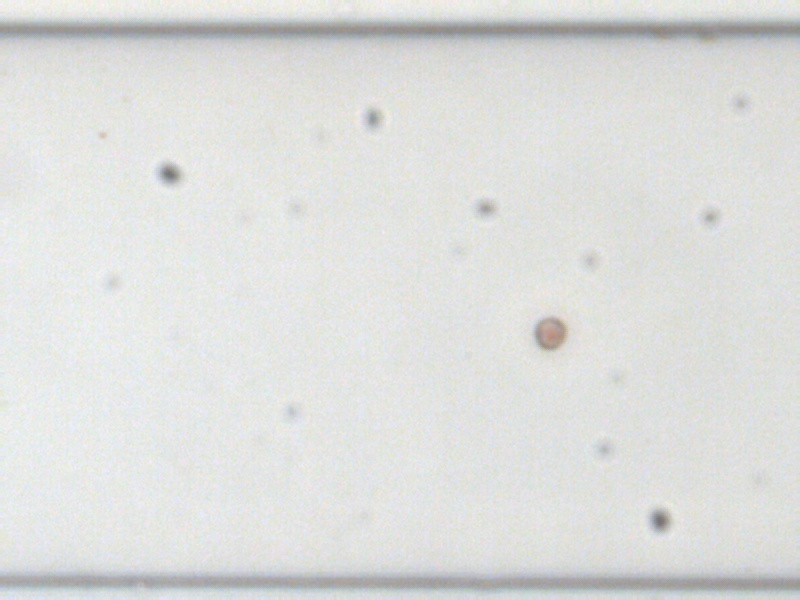Porphyridium: (534, 318, 563, 351)
